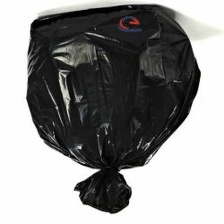plastic_bag: (18, 2, 216, 217)
